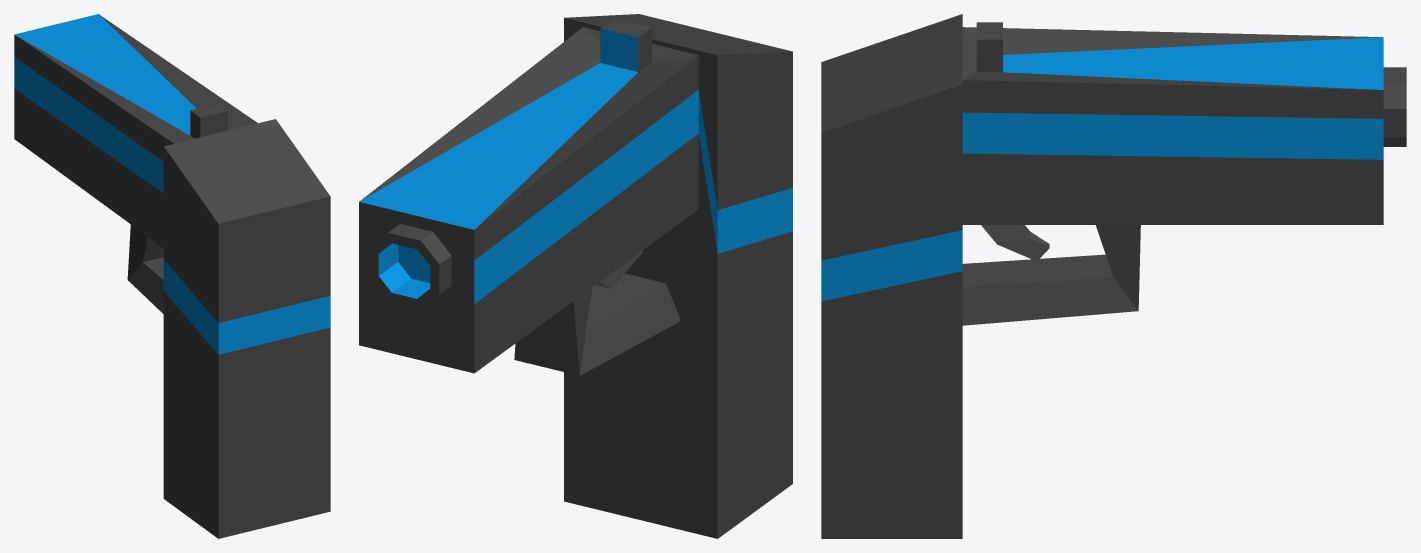
The model's file is Pistol.fbx.
3 views of the same model, side by side, from view 1: azimuth 30°, elevation 25°; view 2: azimuth 150°, elevation 25°; view 3: azimuth 270°, elevation 25° (orthographic). The views are drawn at different scales.
Parts seen in each view (by area): view 1: Cube.009; view 2: Cube.009; view 3: Cube.009.
Part boxes in pixels (<box>): Cube.009: <box>14,14,330,538</box>; Cube.009: <box>359,14,792,538</box>; Cube.009: <box>821,14,1406,538</box>.
Size of the model in its own units: 0.0969 by 0.3028 by 0.3399.
